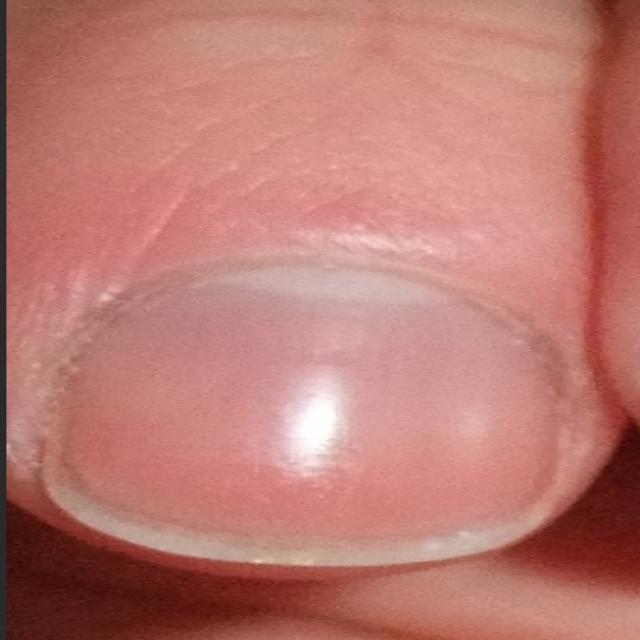Nail: (46, 266, 566, 564)
